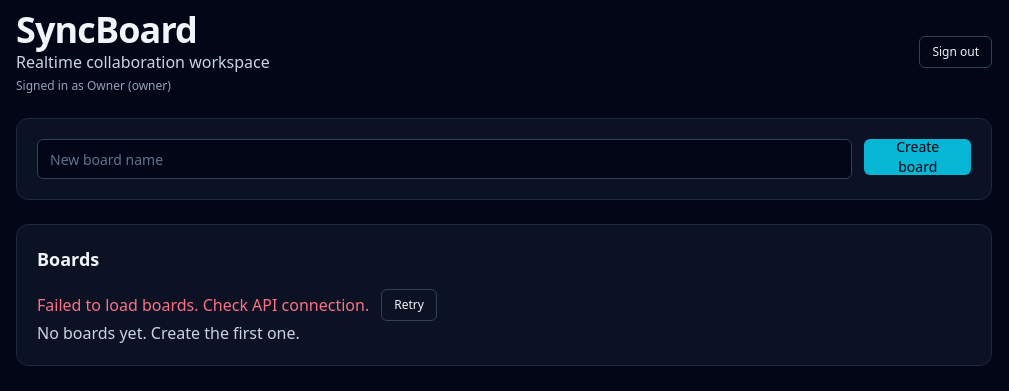
BoardsPage › allows retry when boards loading fails
Check: the text "Failed to load boards. Check API connection." is shown, box [37,293,369,317]
Click the button "Retry". click: {"x": 409, "y": 305}
box: [381,289,437,321]
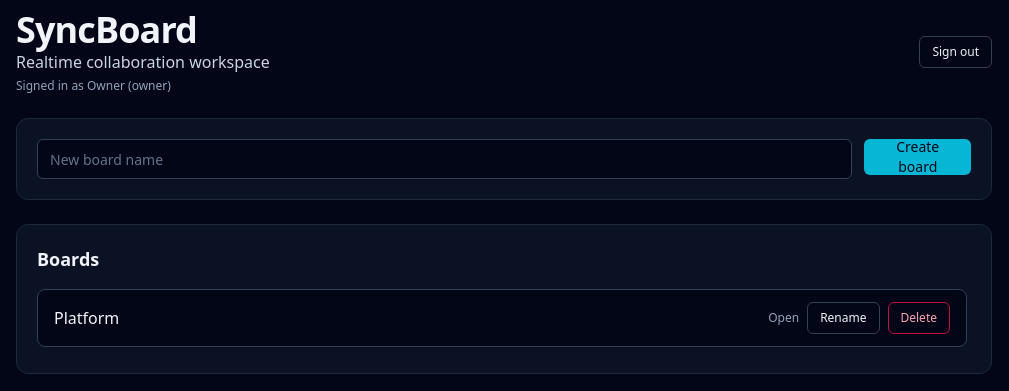
Check: the text "Platform" is shown, box [54,306,119,330]
